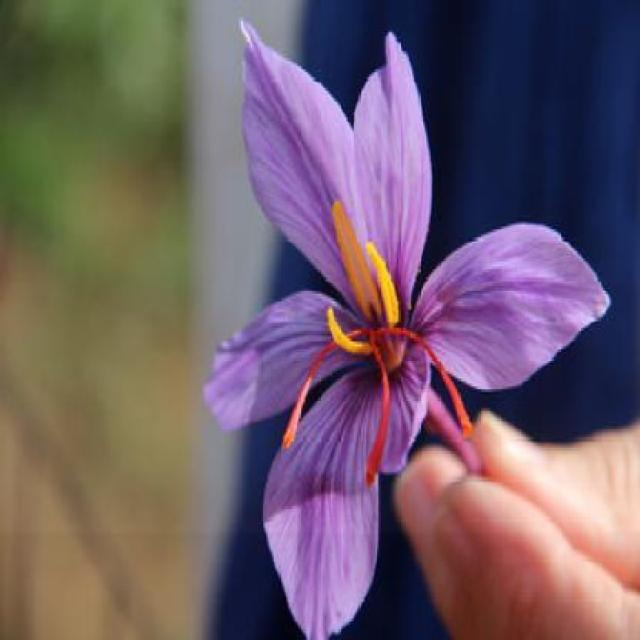Flower: (215, 12, 608, 640)
stigma: (371, 322, 492, 483), (276, 327, 358, 456), (360, 341, 393, 494)
